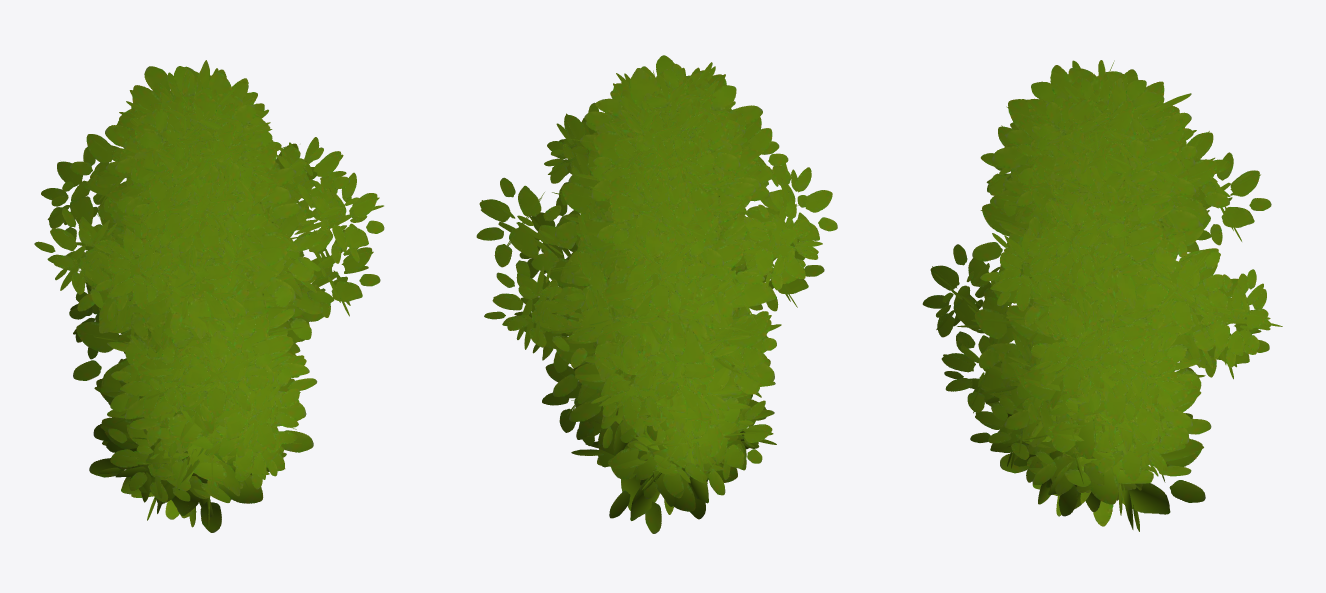
The model's file is bush-3.glb.
3 renders of one model, left to right at view 1: azimuth 30°, elevation 25°; view 2: azimuth 150°, elevation 25°; view 3: azimuth 270°, elevation 25°, orthographic. The views are drawn at different scales.
Visible parts, largest first — view 1: Bush_Long_1; view 2: Bush_Long_1; view 3: Bush_Long_1.
Part boxes in pixels (<box>): Bush_Long_1: <box>34,60,384,532</box>; Bush_Long_1: <box>476,55,837,533</box>; Bush_Long_1: <box>922,60,1282,531</box>.
Bounding box in the file's own units: 0.4956 × 0.7 × 0.4856.
Materials: 1 (1 with a texture image).
